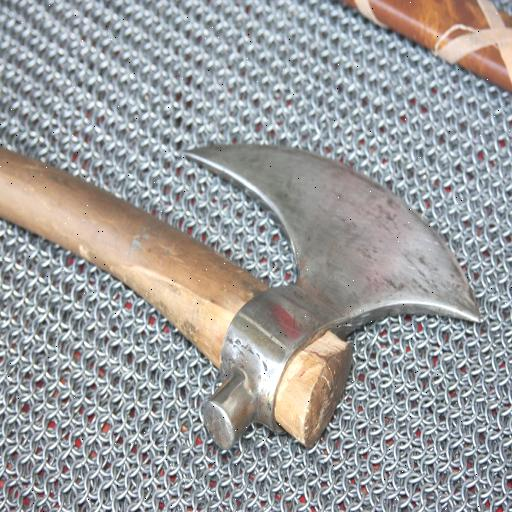Axe: (0, 138, 484, 453)
